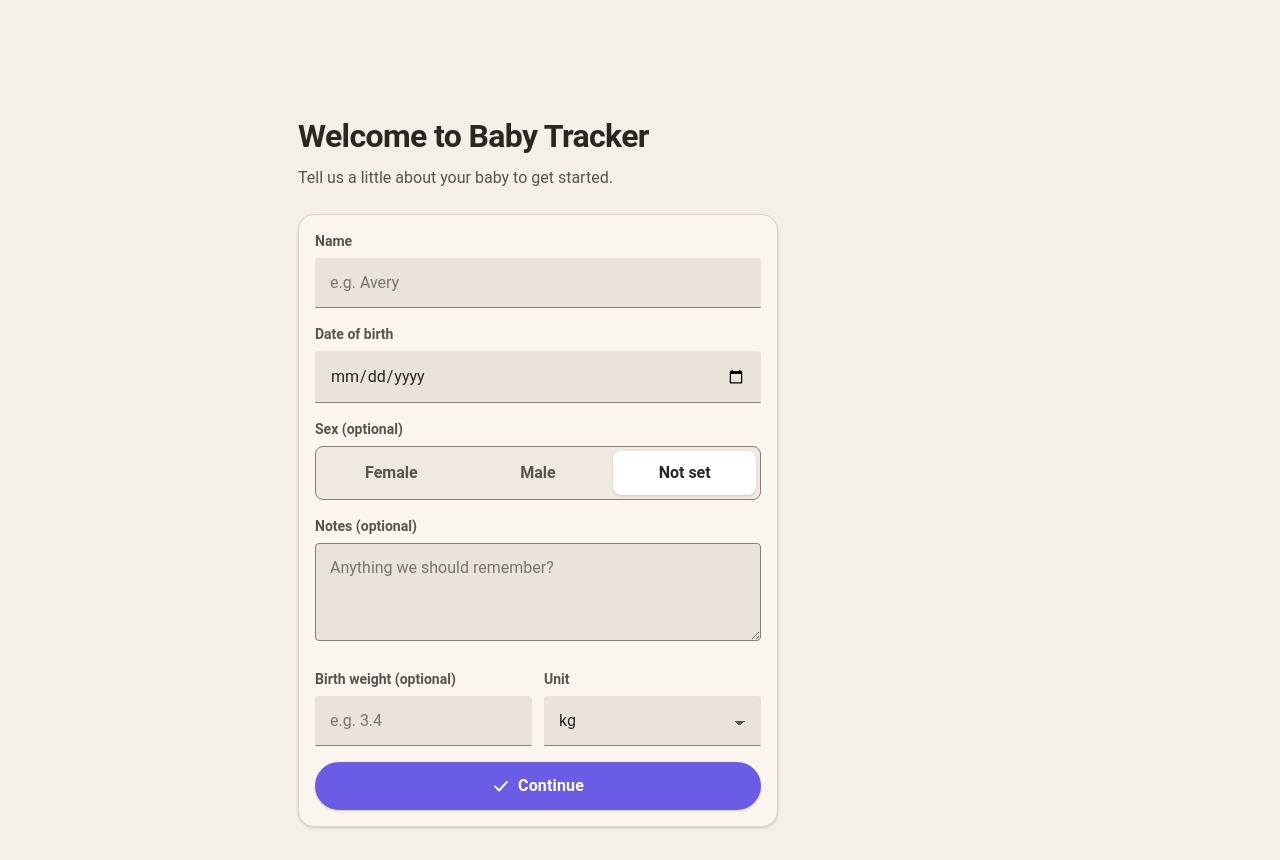
Sleep screen wake-window line between naps › shows a live awake-since line while awake after the last nap today
In the field labelled "Name": (538, 283) [315,258,761,308], type "Avery"
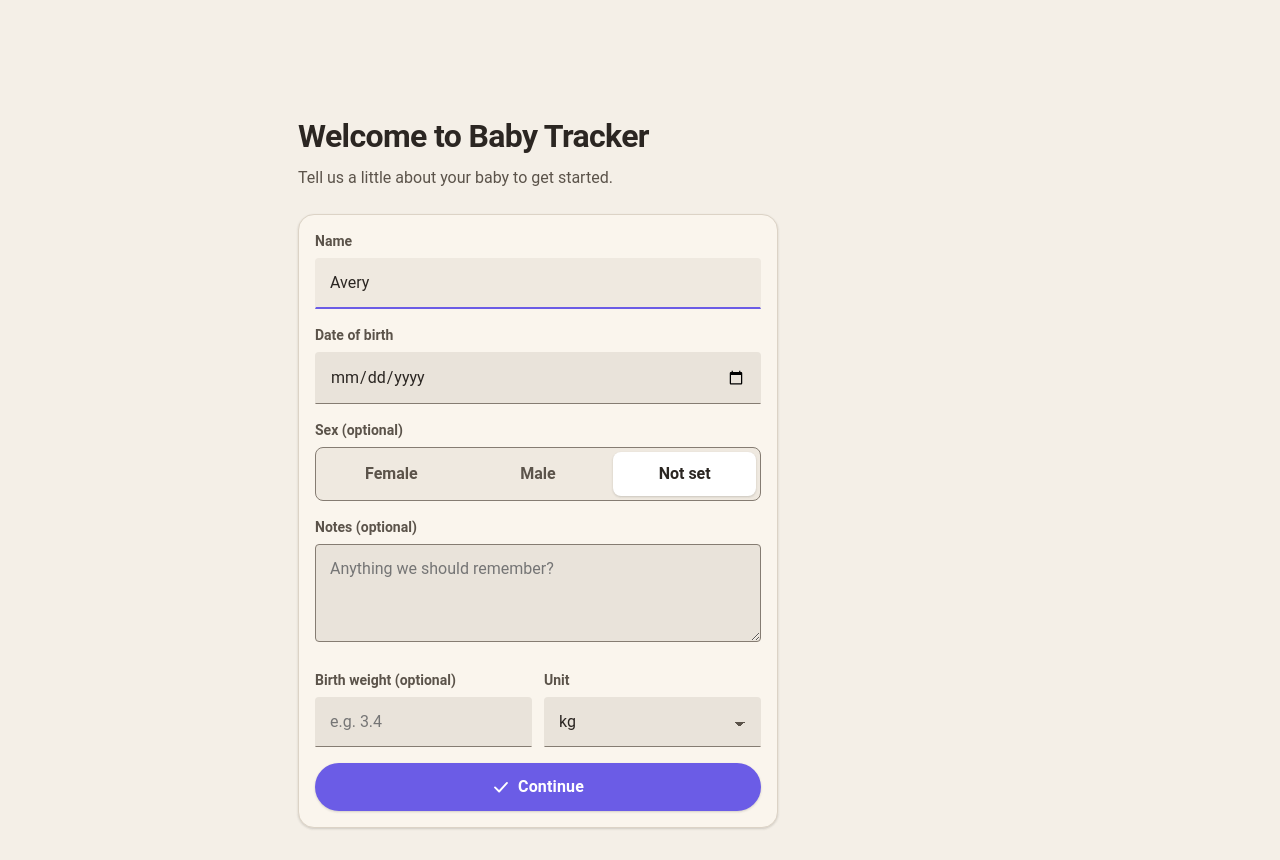
In the date field labelled "Date of birth": (538, 378) [315,352,761,404], type "2026-01-15"
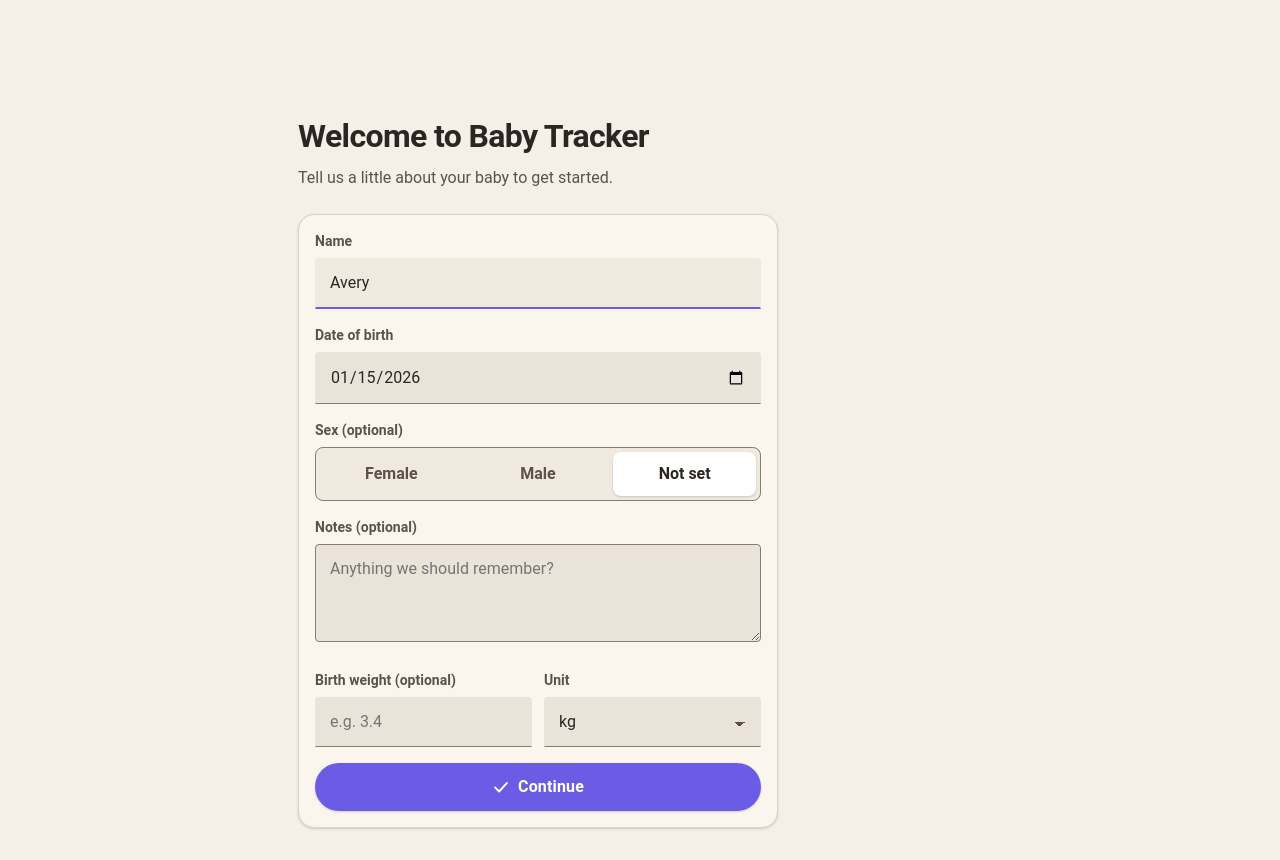
Click the button "Continue": (538, 787) [315,763,761,811]
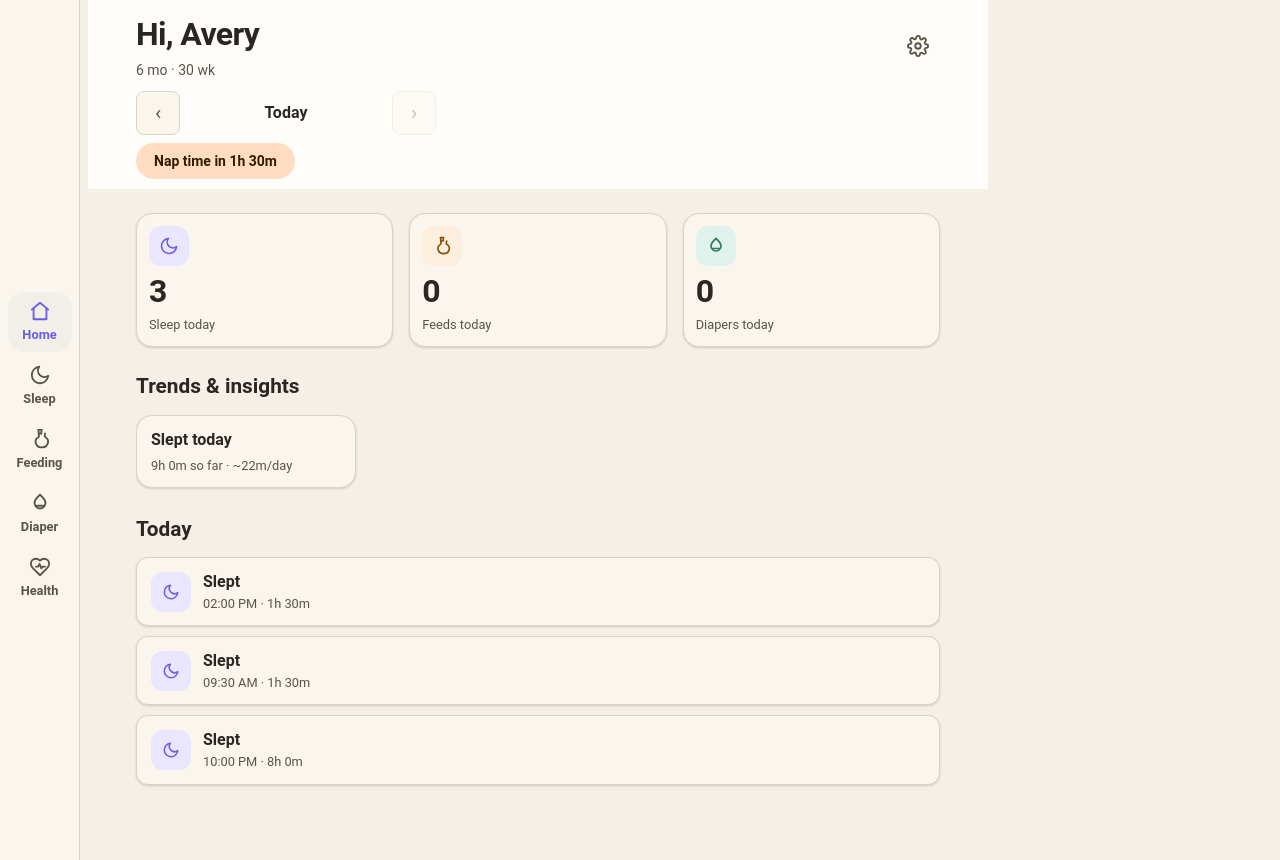
Click the button "Sleep": (40, 386) [8,356,72,416]
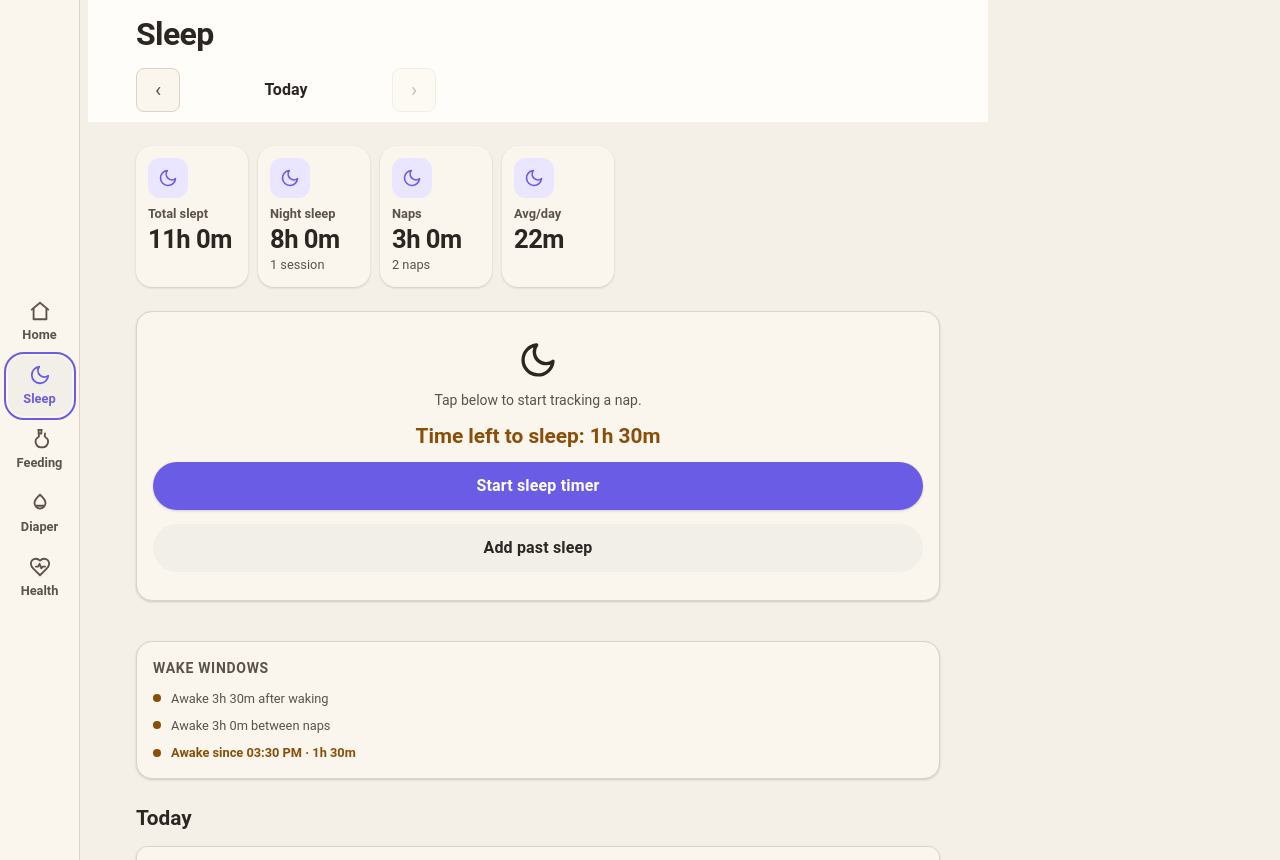
Check: the message "Awake since 03:30 PM · 1h 30m" is shown, box [153,745,356,760]
Check: the element "Wake windows" shows "Awake 3h 30m after waking", box [171,691,329,706]
Check: the element "Wake windows" shows "Awake 3h 0m between naps", box [171,718,330,733]
